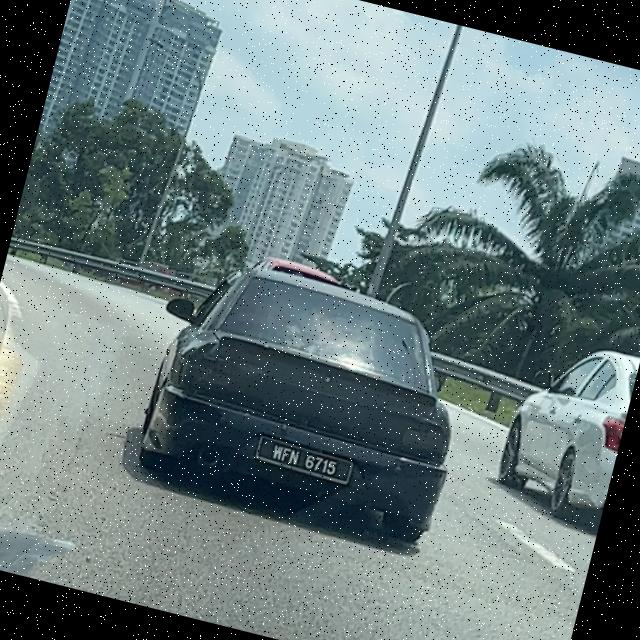License_Plate: (254, 427, 361, 486)
car: (123, 245, 494, 554)
